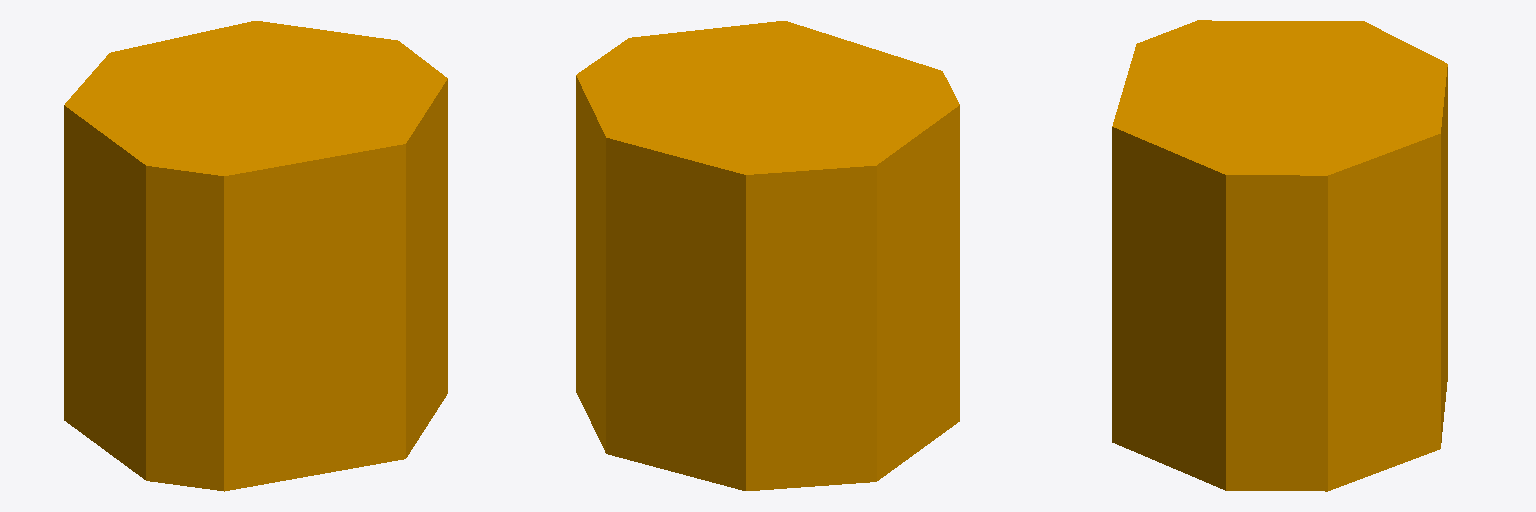
URDF robot description (object):
<?xml version="1.0"?>
<robot name="object">
  <link name="object">
    <visual>
      <origin xyz="0 0 0"/>
      <geometry>
        <mesh filename="meshes/generated/col_067.obj" scale="0.03 0.03 0.03"/>
      </geometry>
    </visual>
    <collision>
      <origin xyz="0 0 0"/>
      <geometry>
        <mesh filename="meshes/generated/col_067.obj" scale="0.03 0.03 0.03"/>
      </geometry>
    </collision>
    <inertial>
      <density value="1000.0"/>
    </inertial>
  </link>
</robot>

--- Render facts (derived) ---
The picture shows the robot from 3 angles, left to right: view 1: azimuth 30°, elevation 25°; view 2: azimuth 150°, elevation 25°; view 3: azimuth 270°, elevation 25°; orthographic projection.
Robot: object — 1 links, 0 joints (none); root link object; default pose: every joint at zero.
Visible links, largest first — view 1: object; view 2: object; view 3: object.
Link boxes in pixels (bbox=[...]): object: bbox=[64, 21, 447, 491]; object: bbox=[576, 21, 959, 490]; object: bbox=[1112, 20, 1447, 491].
Bounding box of the posed robot: 0.0633 × 0.0578 × 0.06 m (x, y, z).
1 mesh visuals loaded from 1 distinct referenced files (1 OBJ).
